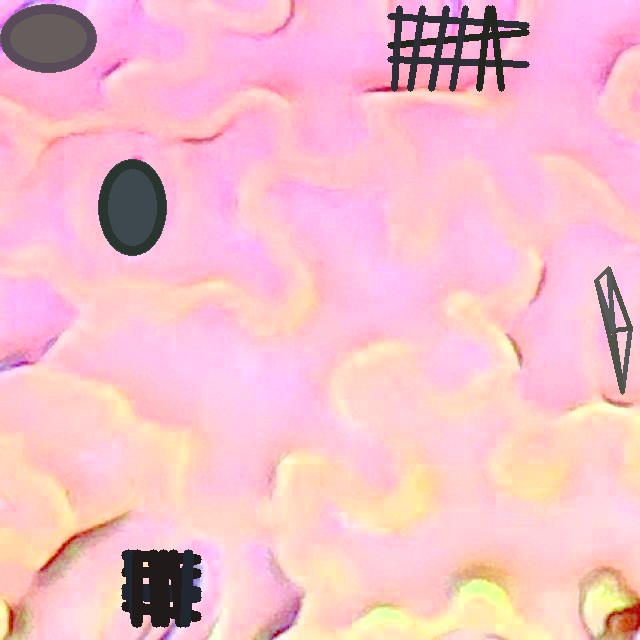close: (594, 267, 632, 393)
open: (387, 6, 529, 91), (98, 159, 167, 255), (1, 4, 95, 72), (121, 550, 201, 626)
